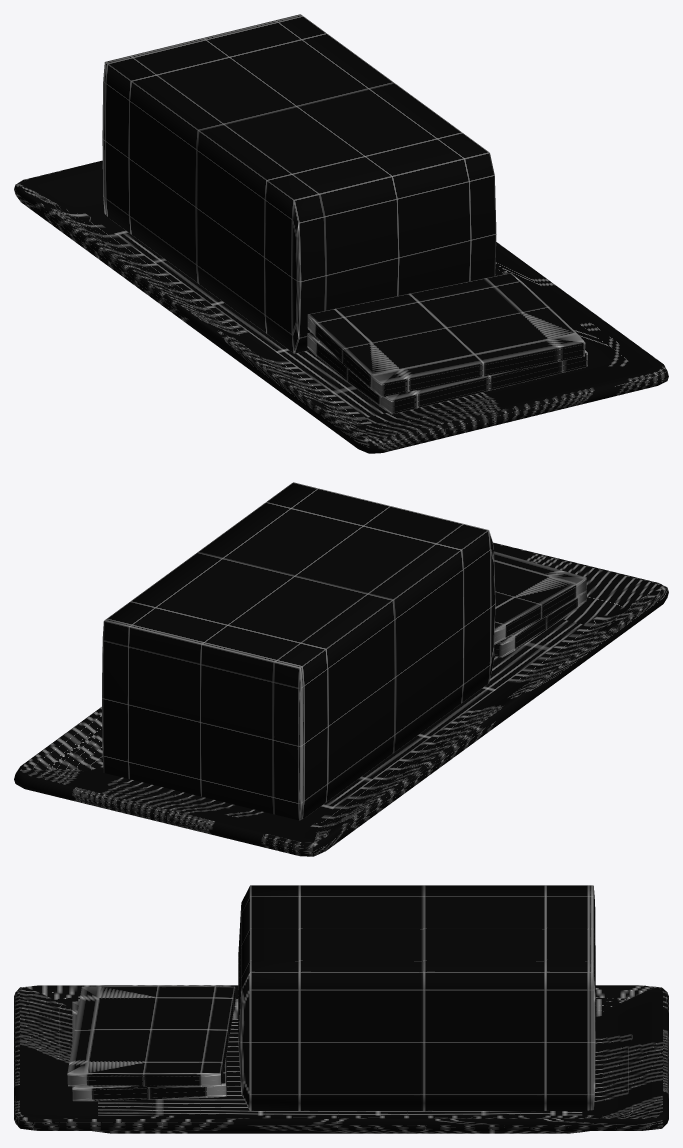
File: Butter_On_Plate.fbx
3 renders of one model, top to bottom at view 1: azimuth 30°, elevation 25°; view 2: azimuth 150°, elevation 25°; view 3: azimuth 270°, elevation 25°, orthographic. The views are drawn at different scales.
Parts seen in each view (by area): view 1: pCube7, pCube5, pCube9, pCube8; view 2: pCube7, pCube5, pCube9, pCube8; view 3: pCube7, pCube5, pCube9, pCube8.
Boxes of the visible parts, x1,y1,x2,y2 form: pCube7: (102,14,496,353); pCube5: (14,160,668,453); pCube9: (307,273,585,397); pCube8: (307,332,587,414); pCube7: (102,482,495,820); pCube5: (14,542,668,856); pCube9: (494,551,586,644); pCube8: (494,586,586,657); pCube7: (238,885,595,1110); pCube5: (14,985,668,1133); pCube9: (67,985,235,1087); pCube8: (72,1001,226,1101).
Bounding box in the file's own units: 13.31 × 7.08 × 27.1.
